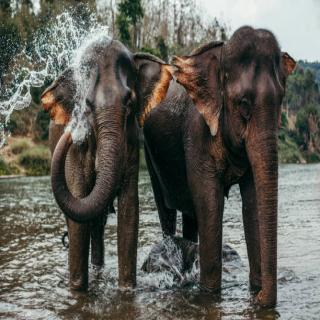Elephant: (142, 23, 299, 312), (38, 29, 176, 296)
